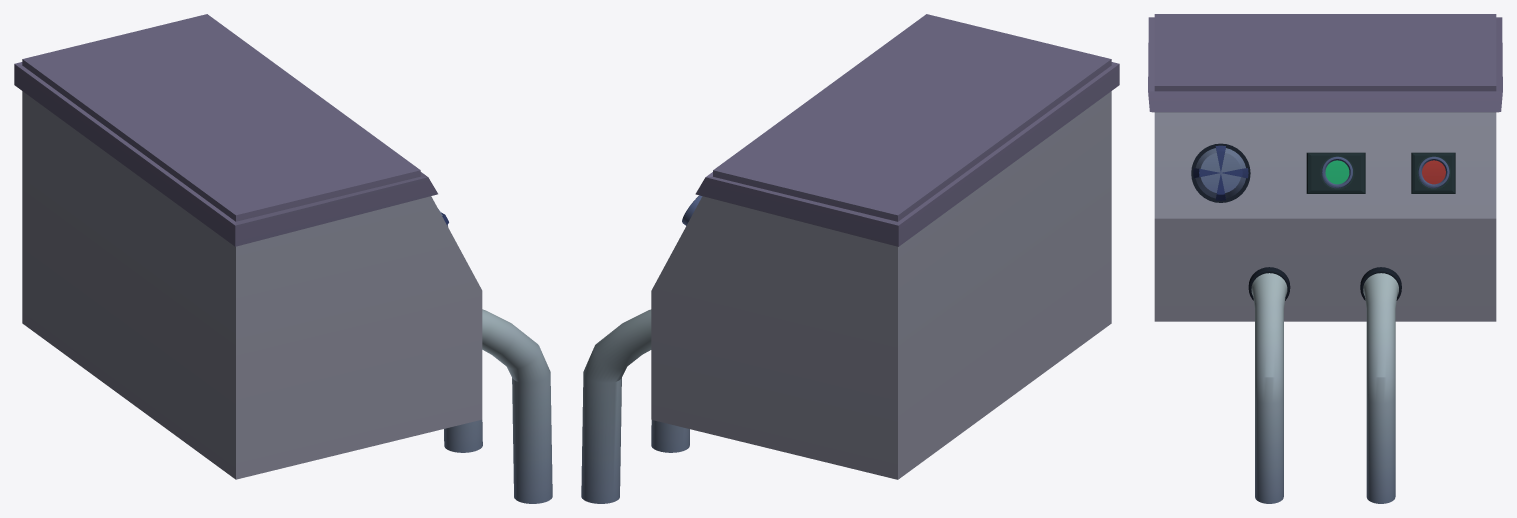
Rendered from Fritoz02.fbx.
3 renders of one model, left to right at view 1: azimuth 30°, elevation 25°; view 2: azimuth 150°, elevation 25°; view 3: azimuth 270°, elevation 25°, orthographic. The views are drawn at different scales.
Parts seen in each view (by area): view 1: Cube, Cylinder.003, Cylinder.004; view 2: Cube, Cylinder.004, Cylinder.003; view 3: Cube, Cylinder.004, Cylinder.003, Cylinder, Cube.001, Cube.003, Cylinder.001, Cylinder.002.
Part boxes in pixels (<box>): Cube: <box>14,14,482,479</box>; Cylinder.003: <box>482,309,552,503</box>; Cylinder.004: <box>444,419,482,452</box>; Cube: <box>651,14,1119,479</box>; Cylinder.004: <box>581,309,651,503</box>; Cylinder.003: <box>651,420,689,452</box>; Cube: <box>1148,14,1502,321</box>; Cylinder.004: <box>1360,267,1401,503</box>; Cylinder.003: <box>1248,267,1290,503</box>; Cylinder: <box>1191,143,1250,202</box>; Cube.001: <box>1306,152,1365,193</box>; Cube.003: <box>1411,152,1455,193</box>; Cylinder.001: <box>1320,155,1354,189</box>; Cylinder.002: <box>1416,155,1450,189</box>.
Bounding box in the file's own units: 317 × 329 × 312.
